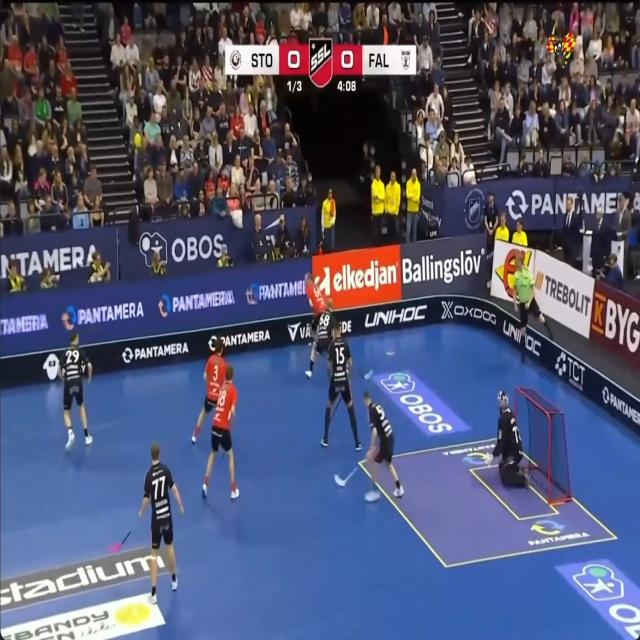player: (139, 443, 183, 604), (320, 323, 362, 450), (202, 363, 239, 499), (512, 252, 553, 360), (364, 391, 403, 496), (59, 333, 92, 449), (490, 390, 528, 487), (192, 336, 225, 442), (306, 298, 337, 378), (305, 273, 325, 339), (367, 490, 379, 501)
stick: (364, 469, 379, 502), (108, 531, 131, 552), (334, 466, 358, 486), (329, 395, 342, 422), (362, 368, 373, 379), (485, 455, 493, 466), (221, 450, 224, 460)
